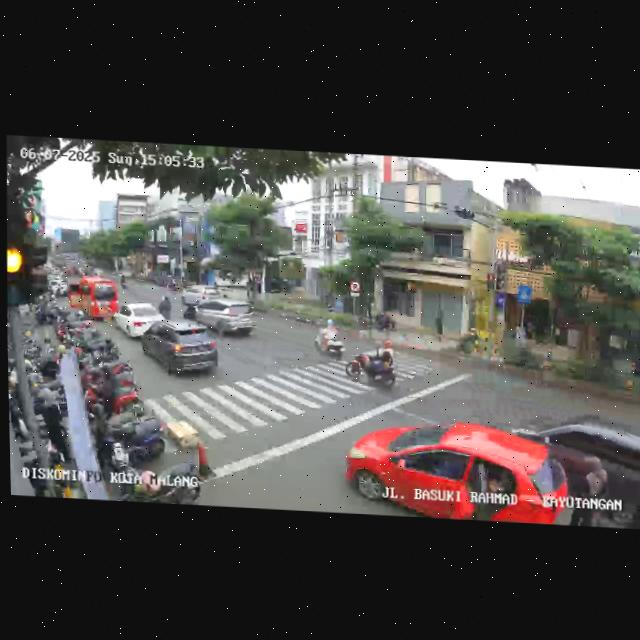car: (346, 412, 567, 525), (504, 406, 640, 529), (140, 321, 220, 381), (185, 295, 256, 339), (67, 275, 118, 324), (114, 300, 164, 340)
motorcycle: (344, 334, 398, 390), (313, 315, 344, 357), (156, 294, 172, 320)
person: (571, 445, 608, 527)
